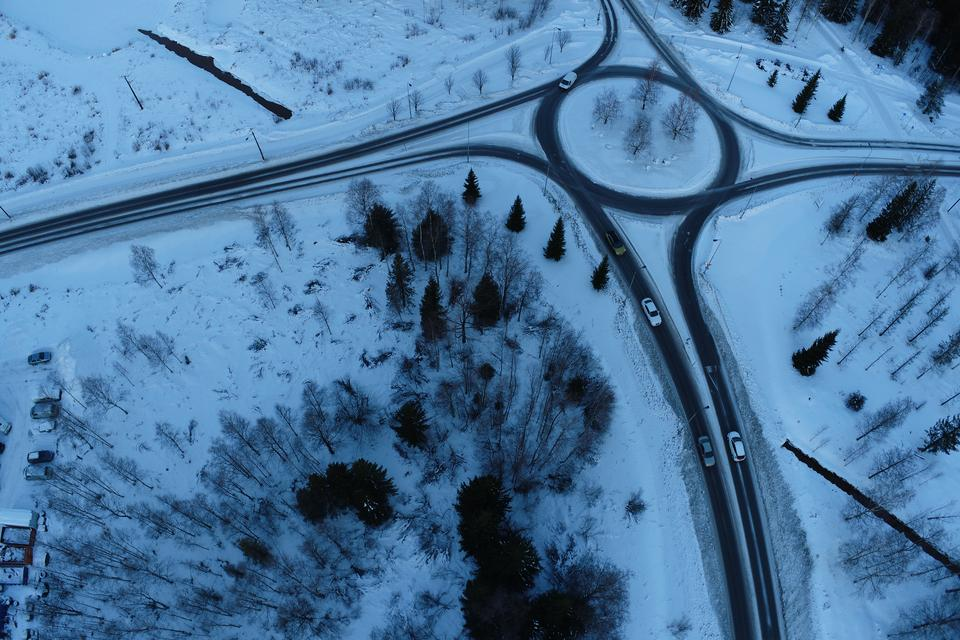intersection: (887, 124, 941, 184)
roundabout: (500, 34, 771, 246)
